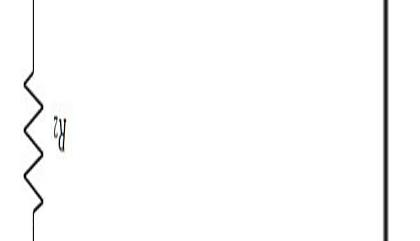resistor: (15, 60, 48, 211)
